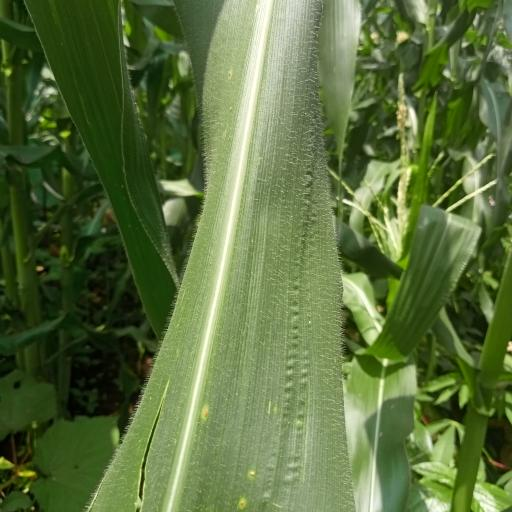Corn_Brown_Spots: (127, 0, 371, 512)
